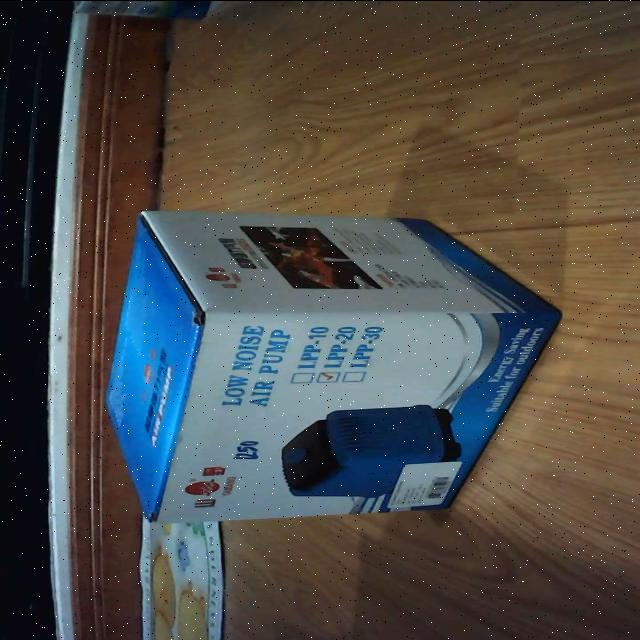YAMANO_LPP_20: (89, 201, 568, 523)
